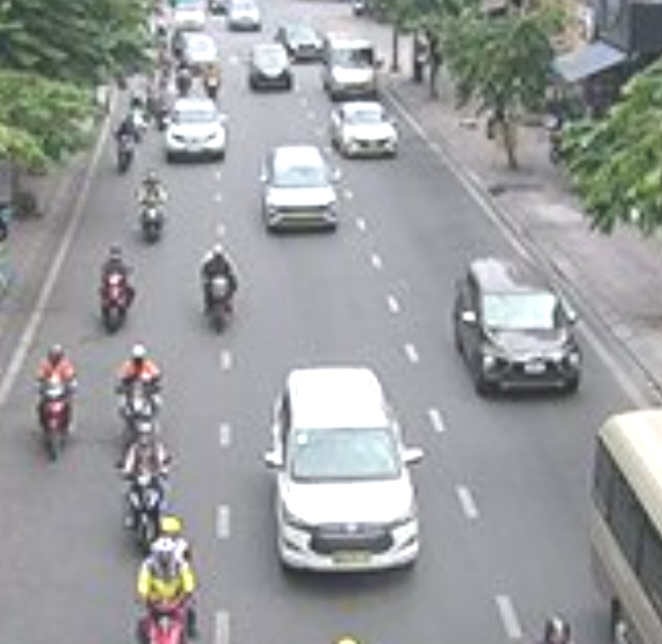car: (265, 366, 422, 577), (456, 256, 587, 395), (262, 143, 338, 236), (331, 102, 400, 159), (167, 99, 227, 161), (325, 36, 380, 100), (248, 46, 295, 94)
